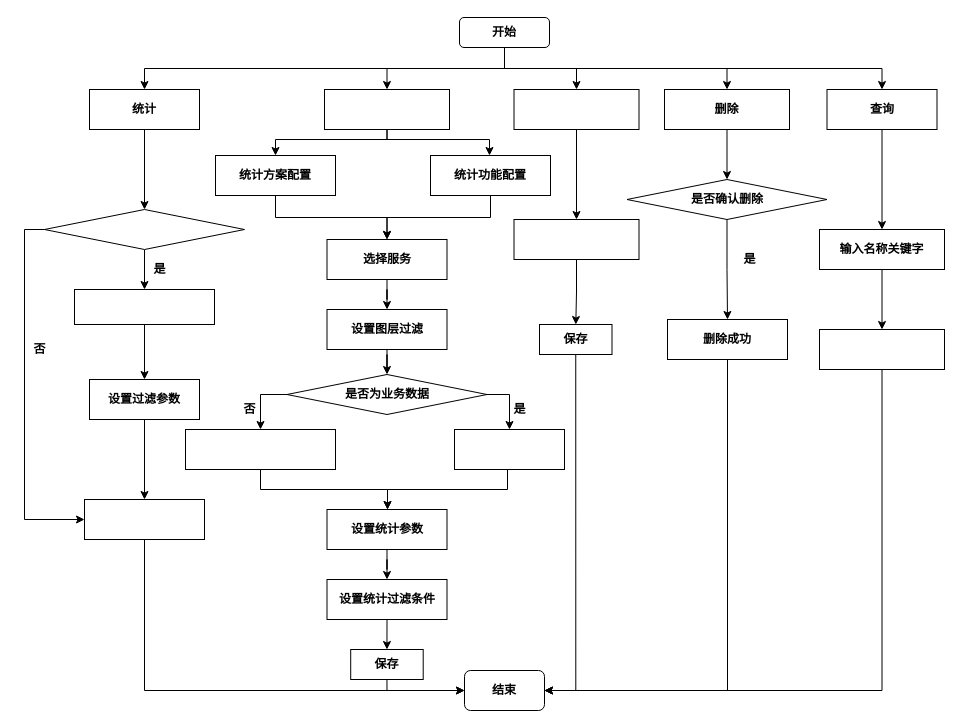
Image size: 962x728. Some labels were removed from this diagram. The shapes that lost their labels are listed below. From the top down, each one's centre as x and y in pixels, then its label:
At point 387,109: "新增方案".
At point 576,109: "编辑".
At point 144,229: "是否为统计功能配置".
At point 576,239: "修改方案配置".
At point 144,306: "生成统计过滤条件页面".
At point 881,349: "查询方案列表".
At point 260,449: "支持空间过滤、属性过滤".
At point 509,449: "支持属性过滤".
At point 144,519: "展示统计结果面板".
